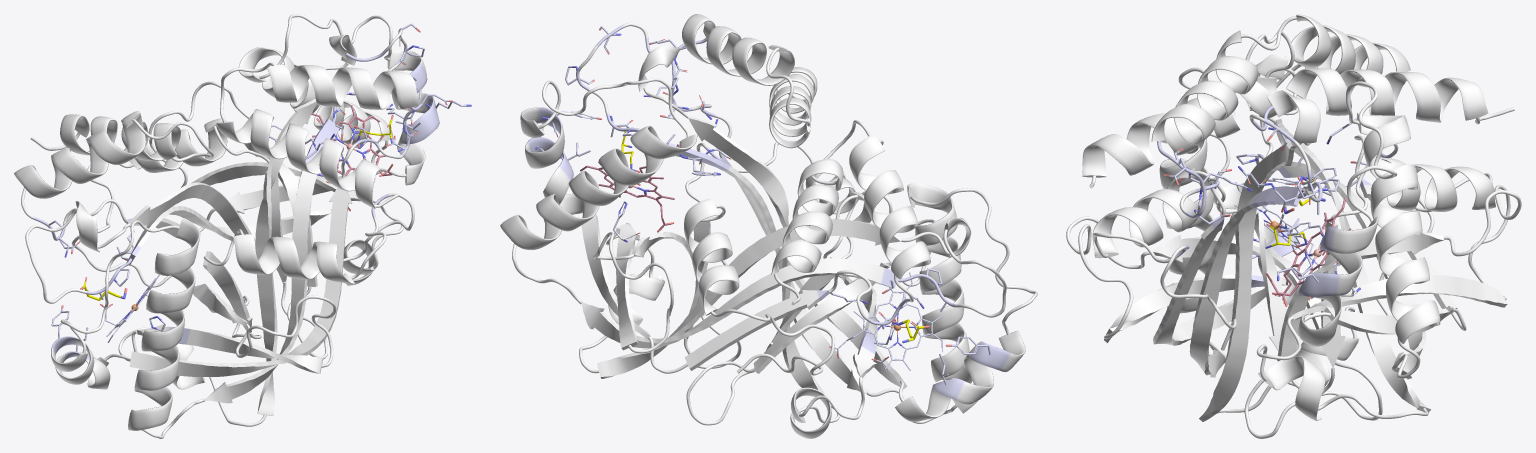
The model's file is PZS_active_site_aa.gltf.
3 views of the same model, side by side, from view 1: azimuth 30°, elevation 25°; view 2: azimuth 150°, elevation 25°; view 3: azimuth 270°, elevation 25° (orthographic). The views are drawn at different scales.
Visible parts, largest first — view 1: node-geom532, node-geom531, node-geom530, node-geom534, node-geom536, node-geom529, node-geom535, node-geom533, node-geom537; view 2: node-geom536, node-geom531, node-geom534, node-geom535, node-geom530, node-geom532, node-geom533, node-geom529, node-geom537; view 3: node-geom530, node-geom535, node-geom532, node-geom534, node-geom536, node-geom529, node-geom533, node-geom531, node-geom537.
Part boxes in pixels (x1,y1,x2,y2): node-geom532: (74, 62, 422, 376); node-geom531: (51, 142, 347, 438); node-geom530: (118, 28, 407, 426); node-geom534: (25, 83, 403, 303); node-geom536: (14, 111, 381, 240); node-geom529: (192, 193, 414, 365); node-geom535: (126, 14, 439, 264); node-geom533: (71, 81, 327, 359); node-geom537: (30, 114, 145, 160); node-geom536: (581, 120, 930, 373); node-geom531: (667, 143, 1037, 423); node-geom534: (579, 217, 1006, 378); node-geom535: (500, 78, 697, 329); node-geom530: (576, 22, 933, 438); node-geom532: (671, 14, 907, 388); node-geom533: (593, 198, 834, 375); node-geom529: (685, 140, 935, 425); node-geom537: (772, 190, 837, 305); node-geom530: (1068, 90, 1358, 421); node-geom535: (1297, 81, 1440, 379); node-geom532: (1082, 30, 1469, 345); node-geom534: (1246, 54, 1518, 420); node-geom536: (1245, 14, 1488, 334); node-geom529: (1066, 168, 1382, 420); node-geom533: (1244, 157, 1521, 438); node-geom531: (1159, 67, 1302, 377); node-geom537: (1286, 69, 1514, 124).
Bounding box in the file's own units: 65.11 × 48.41 × 49.01.
